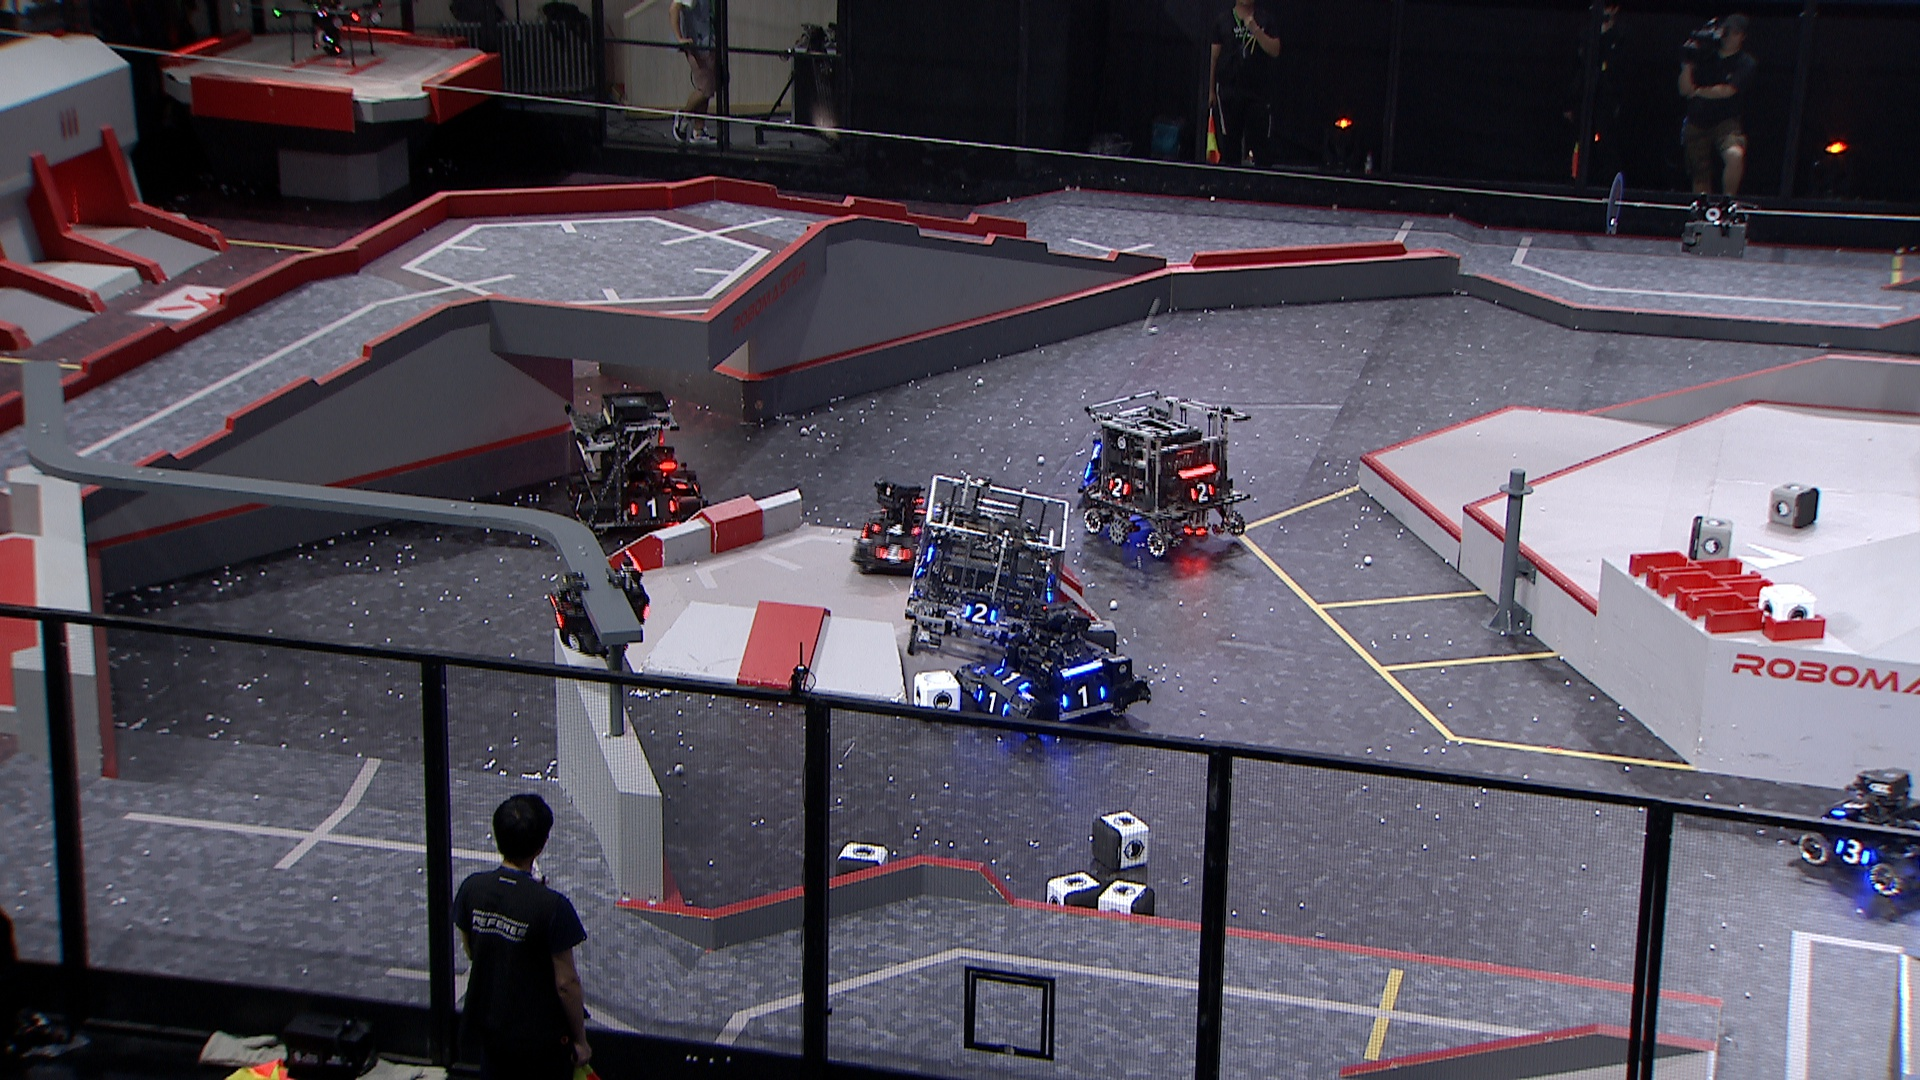armor: (1062, 684, 1109, 713), (1836, 837, 1875, 868), (994, 665, 1033, 694), (975, 688, 1011, 717), (626, 498, 676, 520), (870, 520, 920, 537), (543, 593, 566, 632), (964, 603, 998, 626), (1832, 799, 1870, 820), (873, 542, 913, 562), (667, 472, 694, 495), (1106, 476, 1131, 498), (1191, 483, 1216, 504), (568, 491, 589, 513), (910, 555, 927, 579)
car: (903, 475, 1069, 655), (1079, 390, 1249, 560), (949, 603, 1150, 746), (560, 392, 711, 547), (1795, 767, 1920, 899), (851, 480, 942, 578)
watcher: (542, 551, 647, 661)
